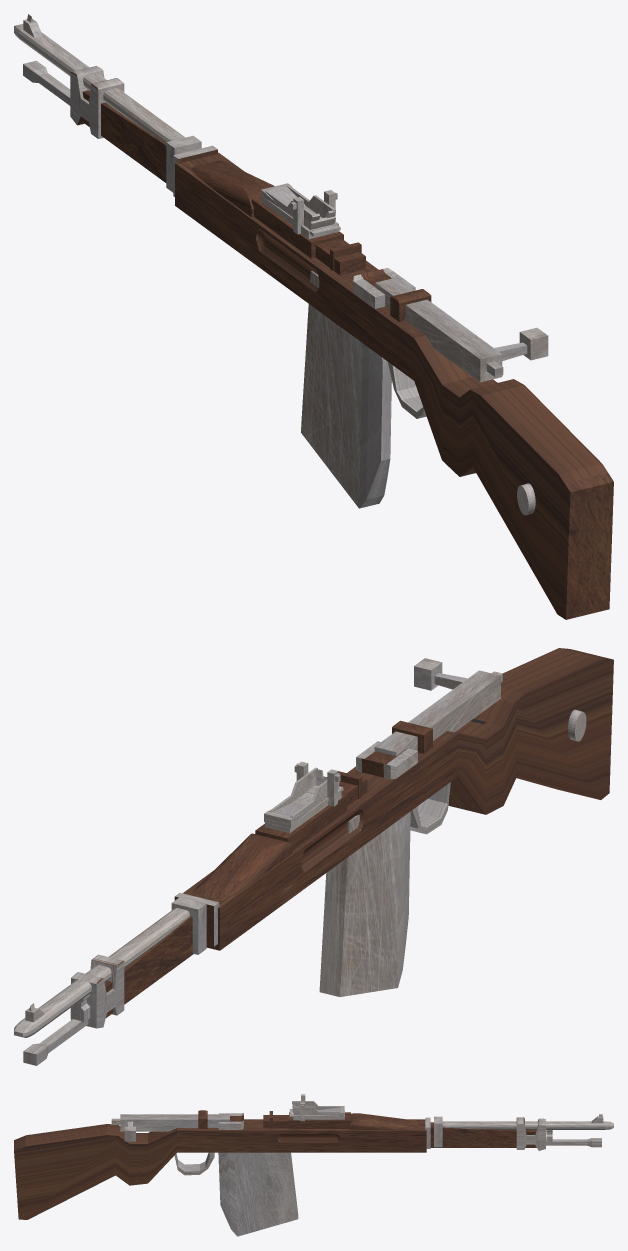
File: Gewehr-98.glb
3 renders of one model, top to bottom at view 1: azimuth 30°, elevation 25°; view 2: azimuth 150°, elevation 25°; view 3: azimuth 270°, elevation 25°, orthographic. The views are drawn at different scales.
Visible parts, largest first — view 1: rifle, clip, bolt; view 2: rifle, clip, bolt; view 3: rifle, clip, bolt.
Boxes of the visible parts, x1,y1,x2,y2 form: rifle: (14,14,613,619); clip: (301,271,391,508); bolt: (375,277,548,382); rifle: (14,648,613,1065); clip: (319,812,410,996); bolt: (374,658,502,756); rifle: (14,1094,613,1219); clip: (218,1152,298,1236); bolt: (111,1114,229,1141).
Bounding box in the file's own units: 0.1151 × 0.3151 × 1.25.
3 materials, 2 textured.
